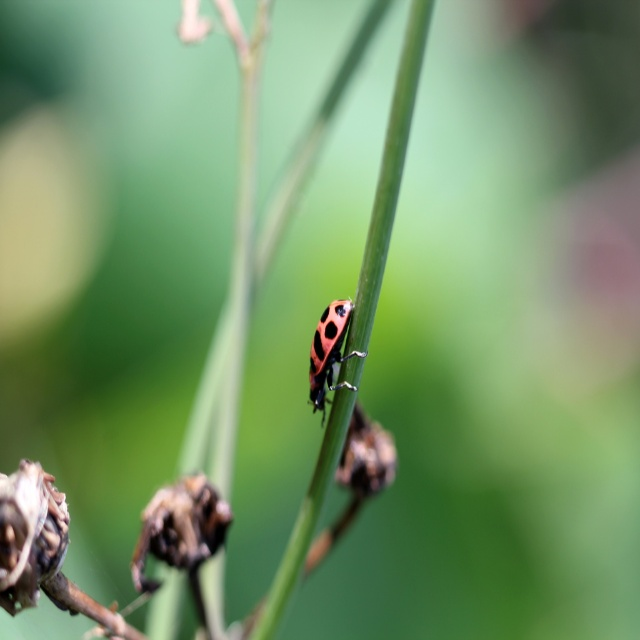Ladybug: (306, 297, 367, 429)
